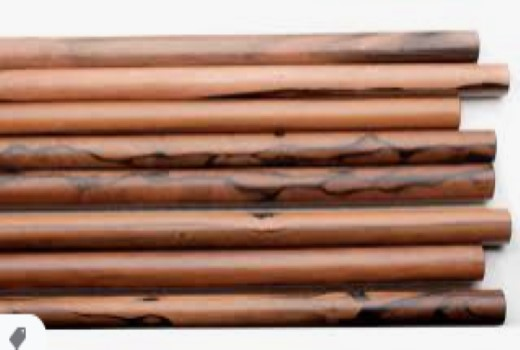baston_e: (4, 200, 490, 254), (4, 290, 497, 334), (4, 62, 490, 106), (2, 96, 469, 140), (1, 166, 483, 206), (0, 129, 485, 168), (7, 249, 477, 287), (3, 26, 473, 64)
baston_v: (450, 126, 507, 163), (485, 199, 519, 253), (476, 158, 513, 207), (450, 23, 490, 64), (484, 62, 519, 102), (490, 282, 516, 332), (462, 243, 492, 285), (441, 94, 473, 128)
